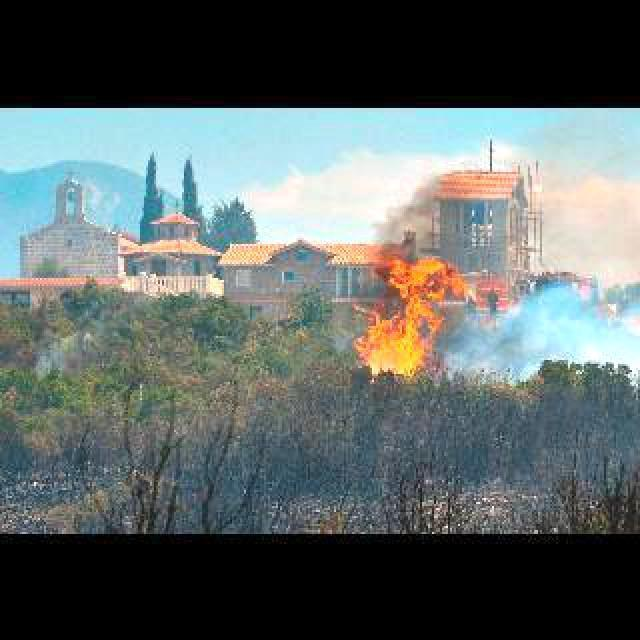Fire: (348, 258, 462, 376)
Smoke: (454, 281, 640, 375), (351, 147, 440, 269)
